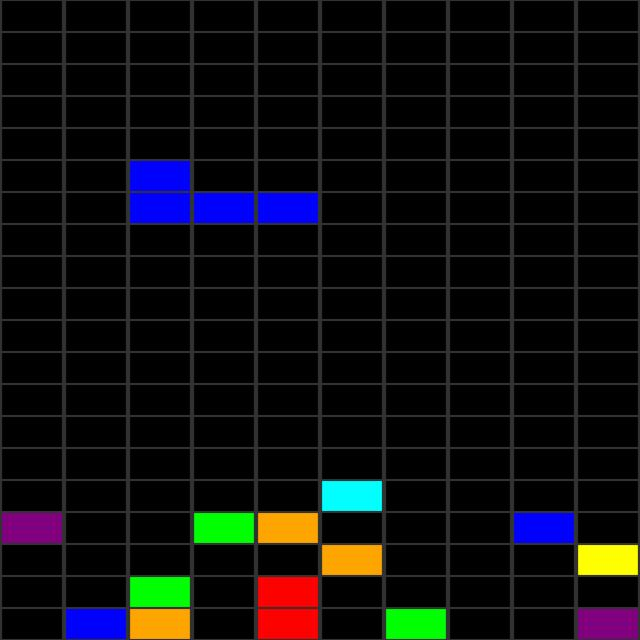Tetrimino_S: (128, 159, 323, 224)
